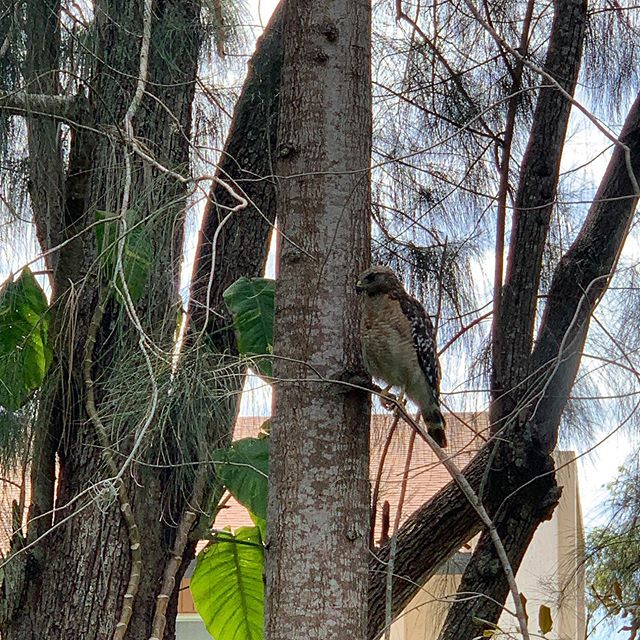animal: (339, 263, 464, 447)
vegetation: (1, 1, 640, 640)
